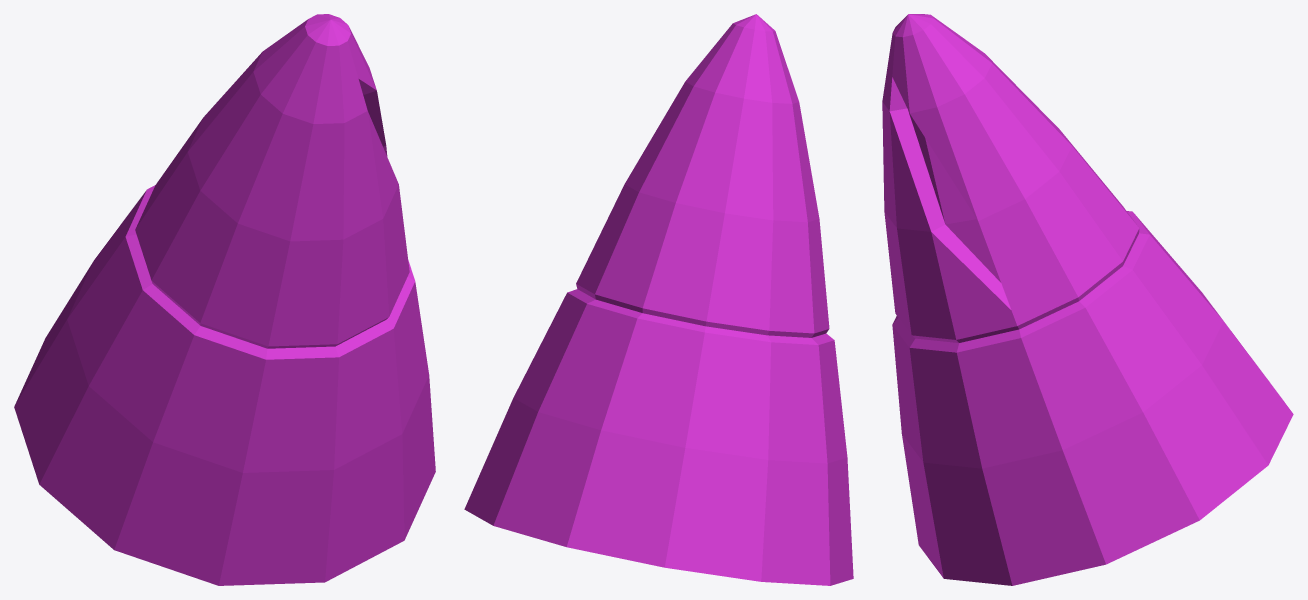
Rendered from Tower_MisselHead.fbx.
3 views of the same model, side by side, from view 1: azimuth 30°, elevation 25°; view 2: azimuth 150°, elevation 25°; view 3: azimuth 270°, elevation 25° (orthographic). The views are drawn at different scales.
Visible parts, largest first — view 1: Missle_Head; view 2: Missle_Head; view 3: Missle_Head.
Boxes of the visible parts, left/top/right/bottom form: Missle_Head: left=14, top=14, right=435, bottom=585; Missle_Head: left=464, top=14, right=853, bottom=585; Missle_Head: left=882, top=14, right=1293, bottom=585.
Size of the model in its own units: 18.3 by 26.69 by 18.74.
